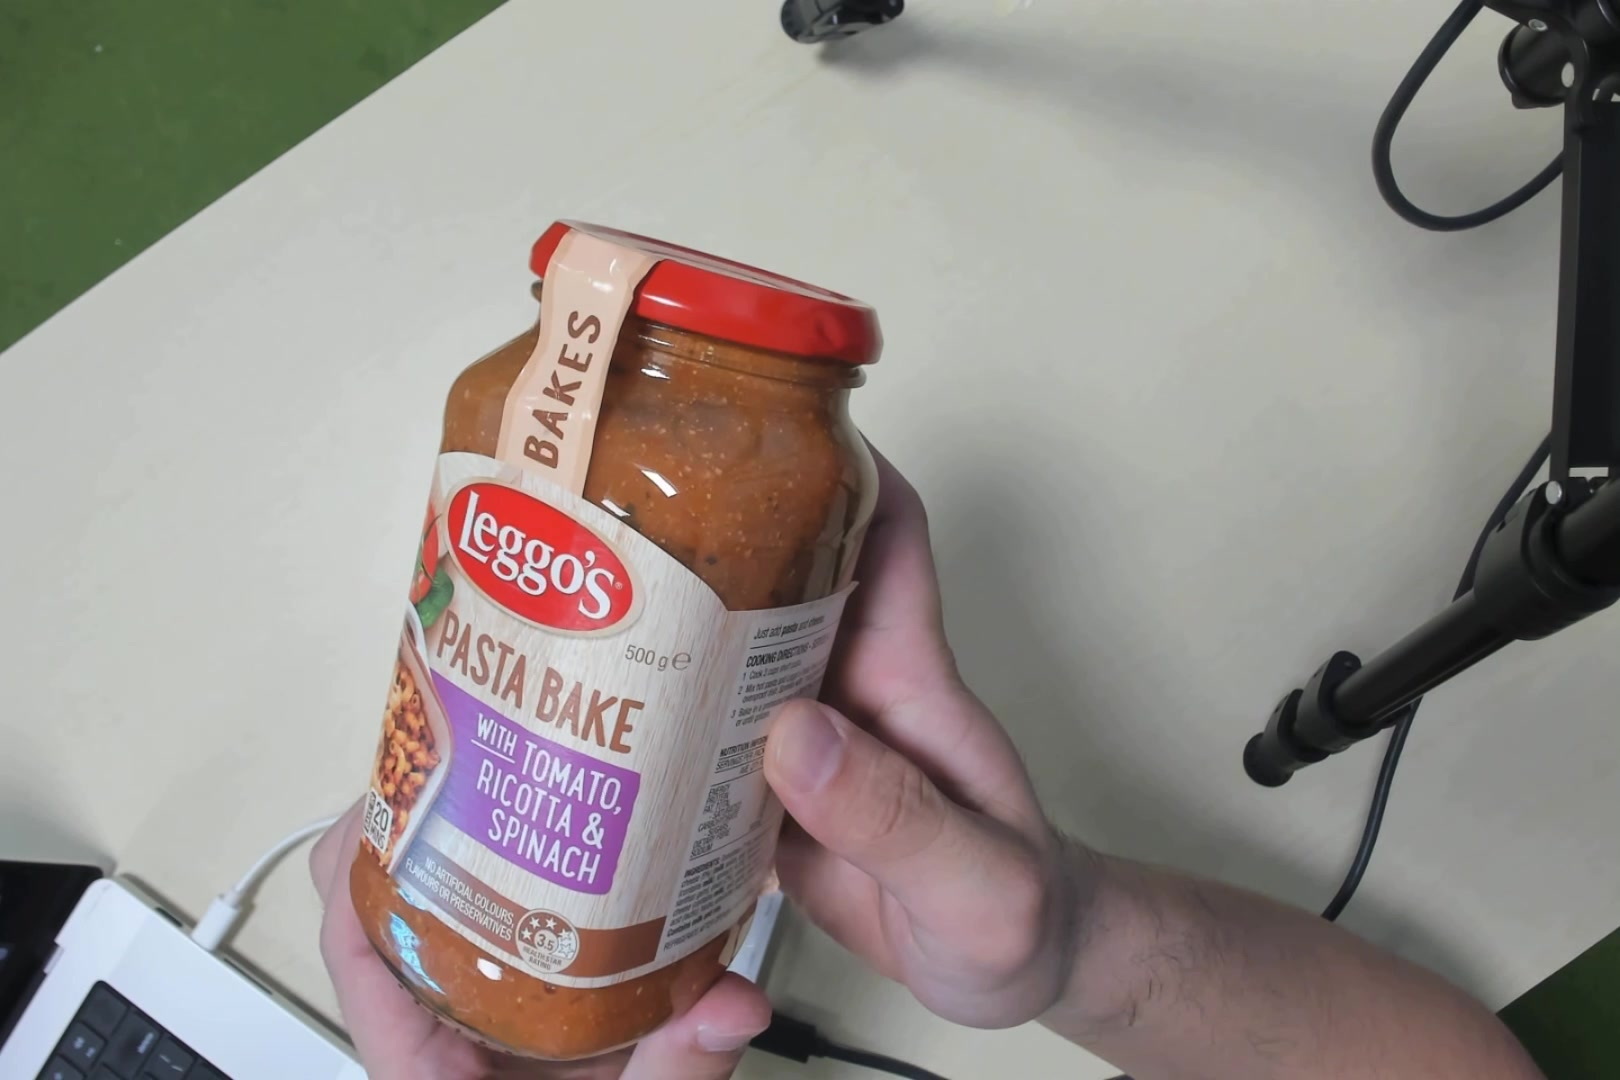Pasta_500-599g_Halal_NonHealthy: (359, 224, 799, 1022)
